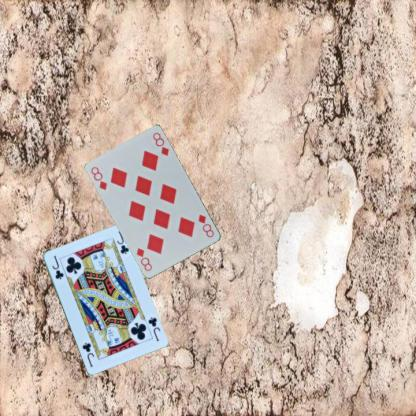8d: (88, 164, 108, 191), (196, 211, 215, 238)
Jc: (145, 314, 161, 343), (49, 253, 65, 281)
